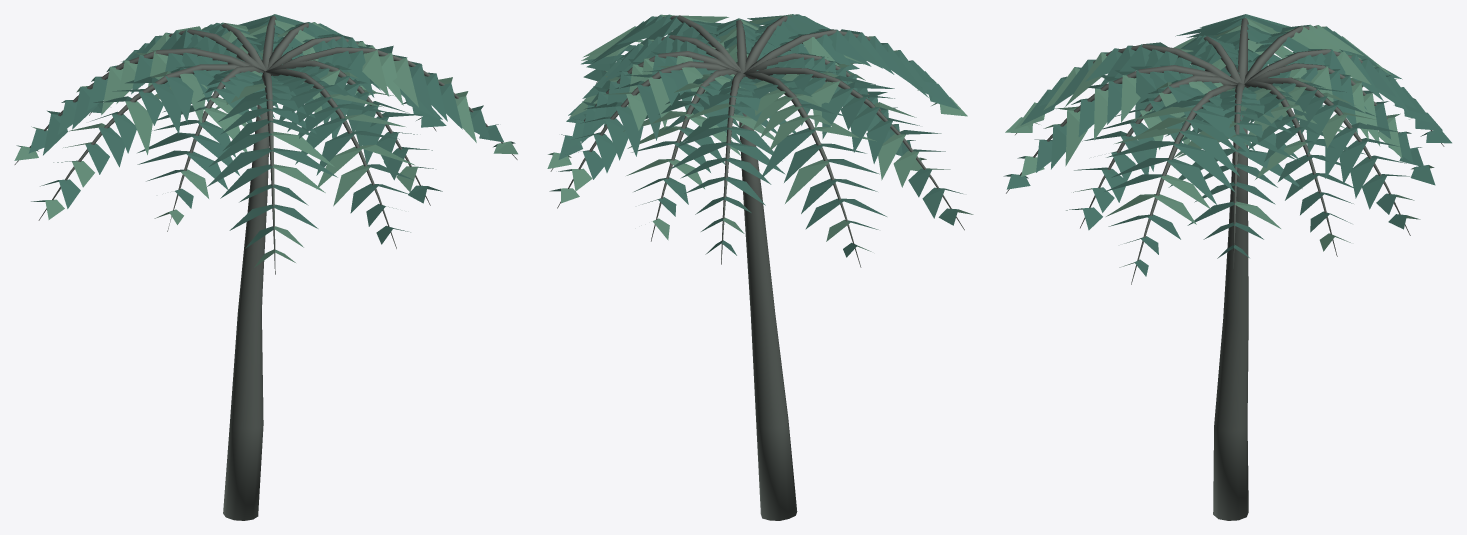
The model's file is palm.glb.
3 views of the same model, side by side, from view 1: azimuth 30°, elevation 25°; view 2: azimuth 150°, elevation 25°; view 3: azimuth 270°, elevation 25° (orthographic). The views are drawn at different scales.
Visible parts, largest first — view 1: Moonwater palm fronds, Moonwater palm trunk; view 2: Moonwater palm fronds, Moonwater palm trunk; view 3: Moonwater palm fronds, Moonwater palm trunk.
Boxes of the visible parts, box(x1,y1,x2,y2) form: Moonwater palm fronds: box(14, 14, 517, 267); Moonwater palm trunk: box(14, 15, 517, 520); Moonwater palm fronds: box(547, 14, 973, 257); Moonwater palm trunk: box(550, 15, 964, 520); Moonwater palm fronds: box(1003, 14, 1451, 276); Moonwater palm trunk: box(1006, 17, 1444, 520).
Bounding box in the file's own units: 7.5 × 7.63 × 6.67.
